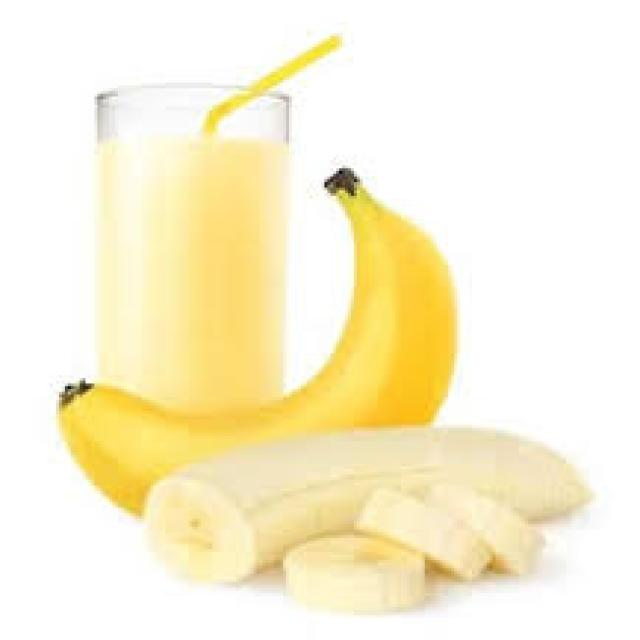banana: (53, 162, 457, 518)
